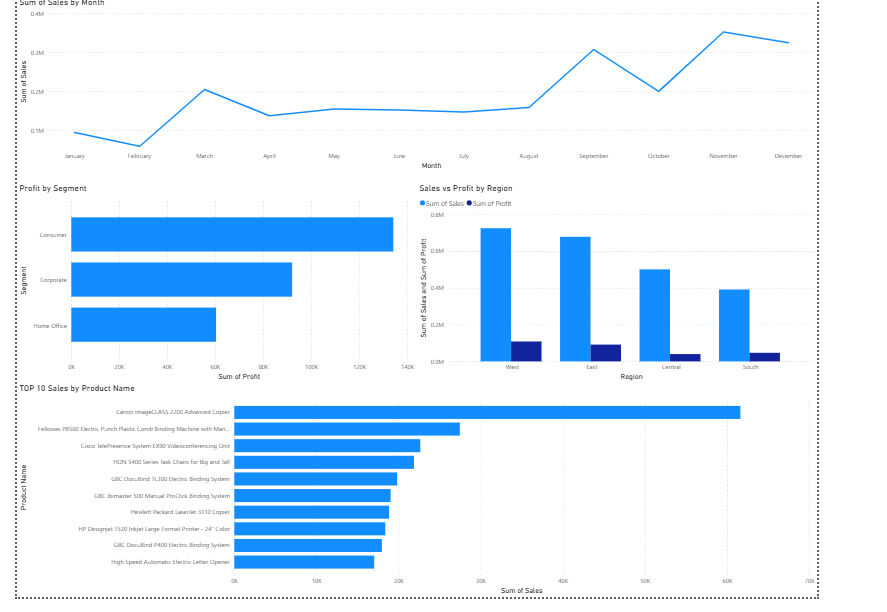

This screenshot's page, from the dashboard's own definition file:
{"tool":"powerbi","page":{"name":"Page 2","canvas":[1600,1200],"ordinal":1},"visuals":[{"type":"clusteredColumnChart","title":"Sales vs Profit by Region","fields":{"Category":["Table_Sample___Superstore_Orders_ od.Region"],"Y":["Sum(Table_Sample___Superstore_Orders_ od.Sales)","Sum(Table_Sample___Superstore_Orders_ od.Profit)"]},"box":[800,372.5,800,400],"z":0},{"type":"lineChart","fields":{"Category":["Table_Sample___Superstore_Orders_ od.Order Date.Variation.Date Hierarchy.Month"],"Y":["Sum(Table_Sample___Superstore_Orders_ od.Sales)"]},"box":[0,0,1600,350],"z":1000},{"type":"barChart","title":" Profit by Segment","fields":{"Category":["Table_Sample___Superstore_Orders_ od.Segment"],"Y":["Sum(Table_Sample___Superstore_Orders_ od.Profit)"]},"box":[0,372.5,800,400],"z":2000},{"type":"clusteredBarChart","title":"TOP 10  Sales by Product Name","fields":{"Category":["Table_Sample___Superstore_Orders_ od.Product Name"],"Y":["Sum(Table_Sample___Superstore_Orders_ od.Sales)"]},"box":[0,772.5,1600,427.5],"z":3000}]}

Visuals, with their boxes on the page's 1600x1200 design canvas (x1, y1, x2, y2). These are canvas units, not pixel positions in the 887x612 screenshot, which may show the page scaled, cropped or inside an application window:
"Sales vs Profit by Region" clusteredColumnChart: select_region(800, 372, 1600, 772)
lineChart - Table_Sample___Superstore_Orders_ od.Order Date.Variation.Date Hierarchy.Month x Sum(Table_Sample___Superstore_Orders_ od.Sales): select_region(0, 0, 1600, 350)
" Profit by Segment" barChart: select_region(0, 372, 800, 772)
"TOP 10  Sales by Product Name" clusteredBarChart: select_region(0, 772, 1600, 1200)
